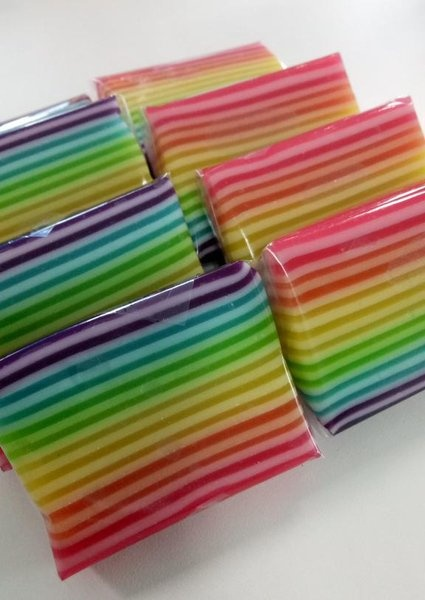kue_lapis_pelangi: (0, 258, 321, 581), (263, 178, 425, 434)
